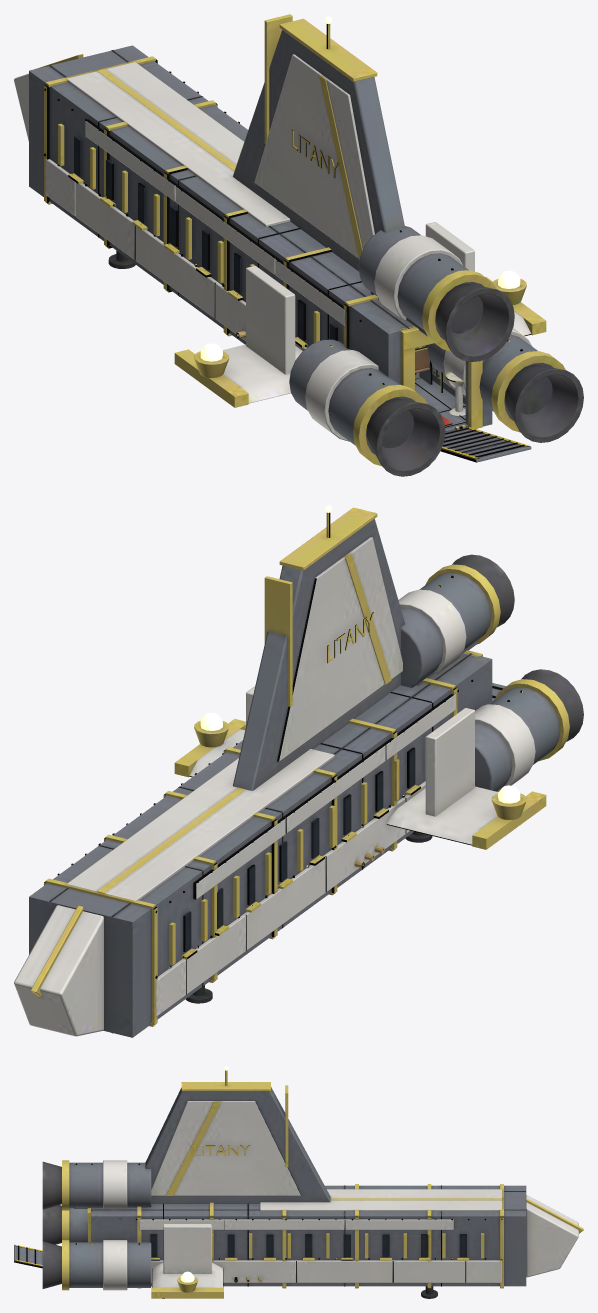
Rendered from litany.glb.
The picture shows the model from 3 angles, top to bottom: view 1: azimuth 30°, elevation 25°; view 2: azimuth 150°, elevation 25°; view 3: azimuth 270°, elevation 25°; orthographic projection. The views are drawn at different scales.
Parts seen in each view (by area): view 1: hull, glass, ramp.001, lights; view 2: hull, glass, lights; view 3: hull, glass, ramp.001.
Boxes of the visible parts, x1,y1,x2,y2 form: hull: (14, 14, 583, 476); glass: (74, 136, 337, 340); ramp.001: (441, 427, 531, 462); lights: (200, 16, 520, 361); hull: (14, 507, 583, 1037); glass: (183, 747, 415, 952); lights: (200, 505, 520, 803); hull: (42, 1070, 583, 1298); glass: (150, 1234, 466, 1256); ramp.001: (14, 1244, 42, 1268).
Bounding box in the file's own units: 9.47 × 9.95 × 23.57.
Materials: 14 (11 with a texture image).
